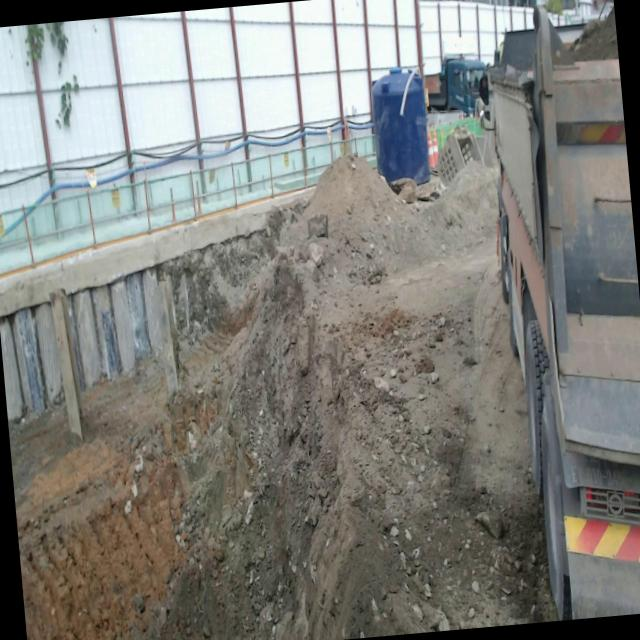red-sand: (8, 158, 555, 640), (571, 6, 618, 61)
